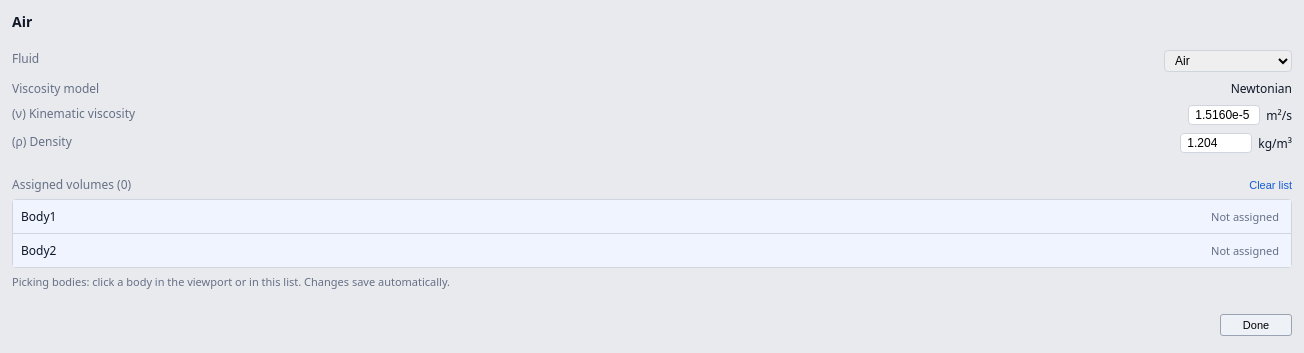
Test case: MaterialsPanel › a fluid picked while a new fluid's first save is on its way saves on that fluid and stays on screen
Expected: the dropdown named "Fluid" shows "Air", [1164,50,1292,72]
Click the button "Body1".
click(39, 216)  # box [21,202,1205,231]
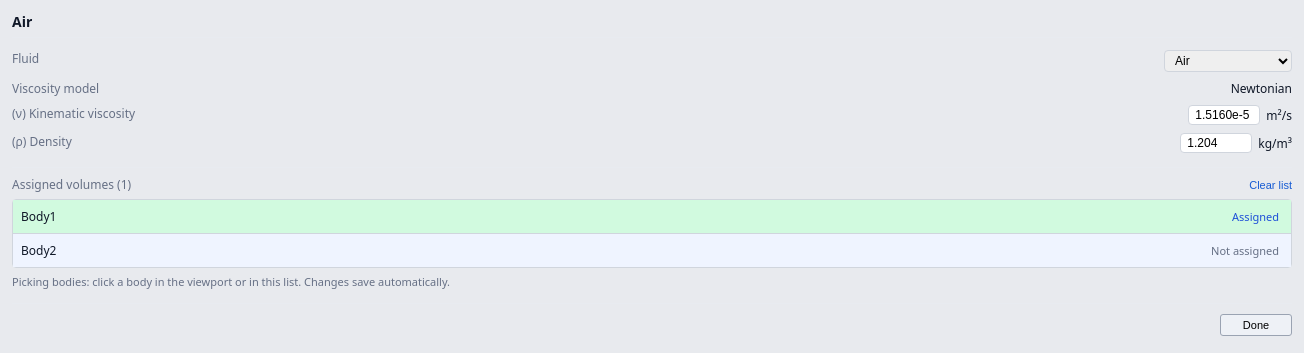
// Water is picked before the first save's answer is back.
Select "Water" in the dropdown named "Fluid" at [1228, 61], box [1164,50,1292,72]
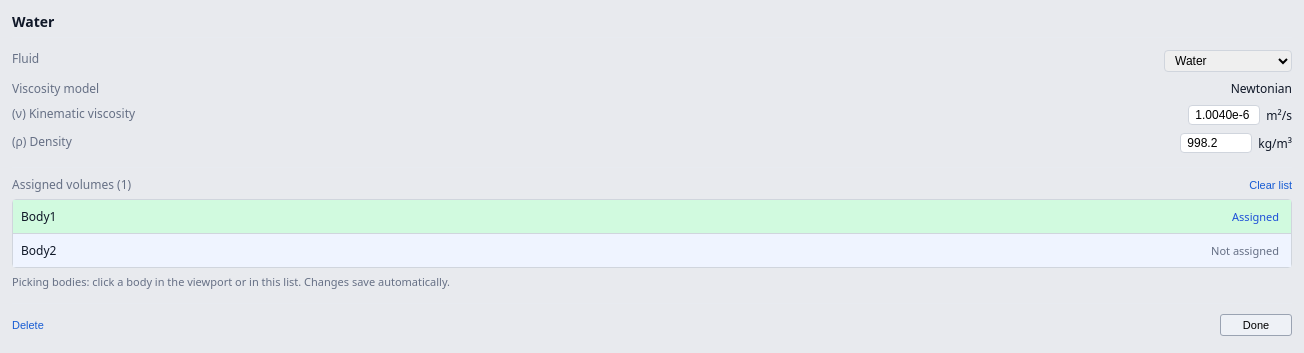
Now the field named "Density" holds "998.2", box [1180,133,1252,153]
